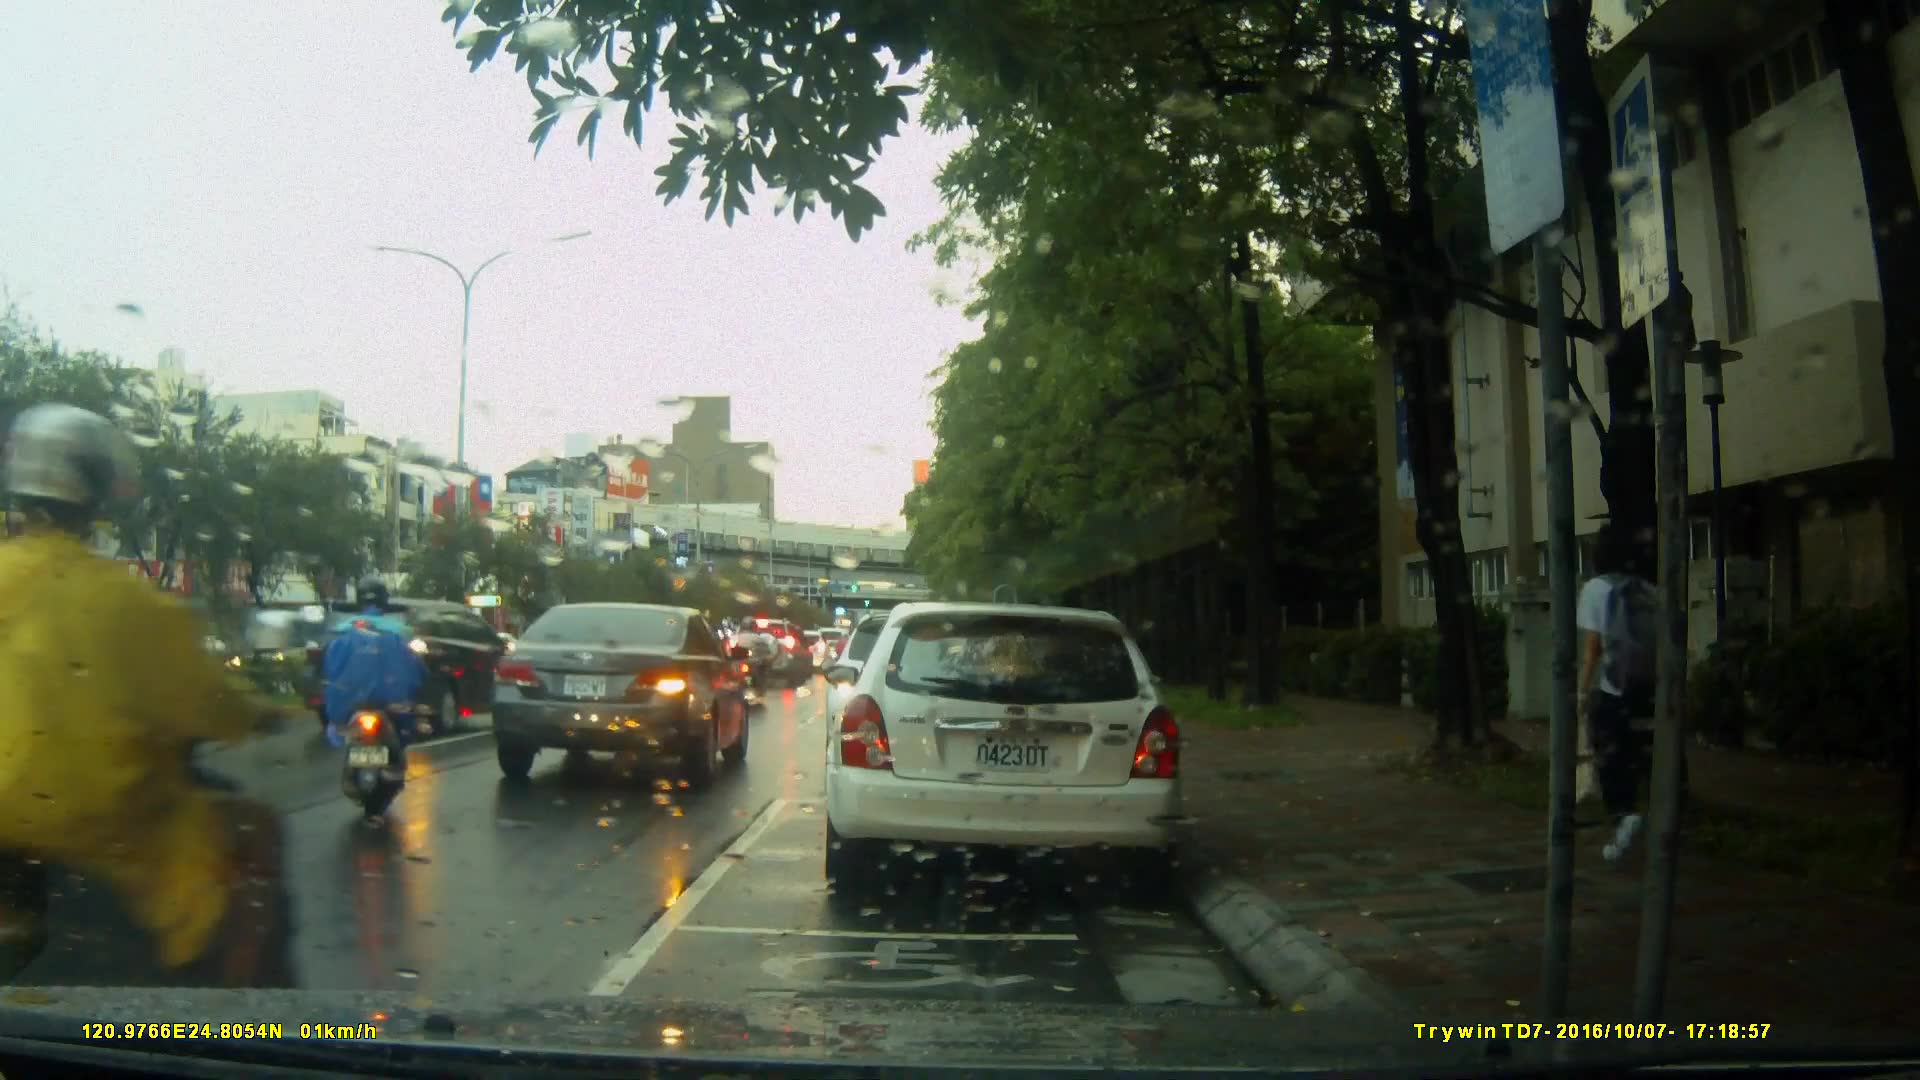pedestrian: (1545, 517, 1669, 871)
rider: (1, 399, 294, 1062), (333, 578, 432, 820), (733, 617, 769, 702)
vehicle: (1, 543, 277, 986), (820, 602, 1188, 898), (490, 601, 754, 788), (305, 596, 525, 739), (732, 619, 813, 690), (134, 634, 239, 689)
